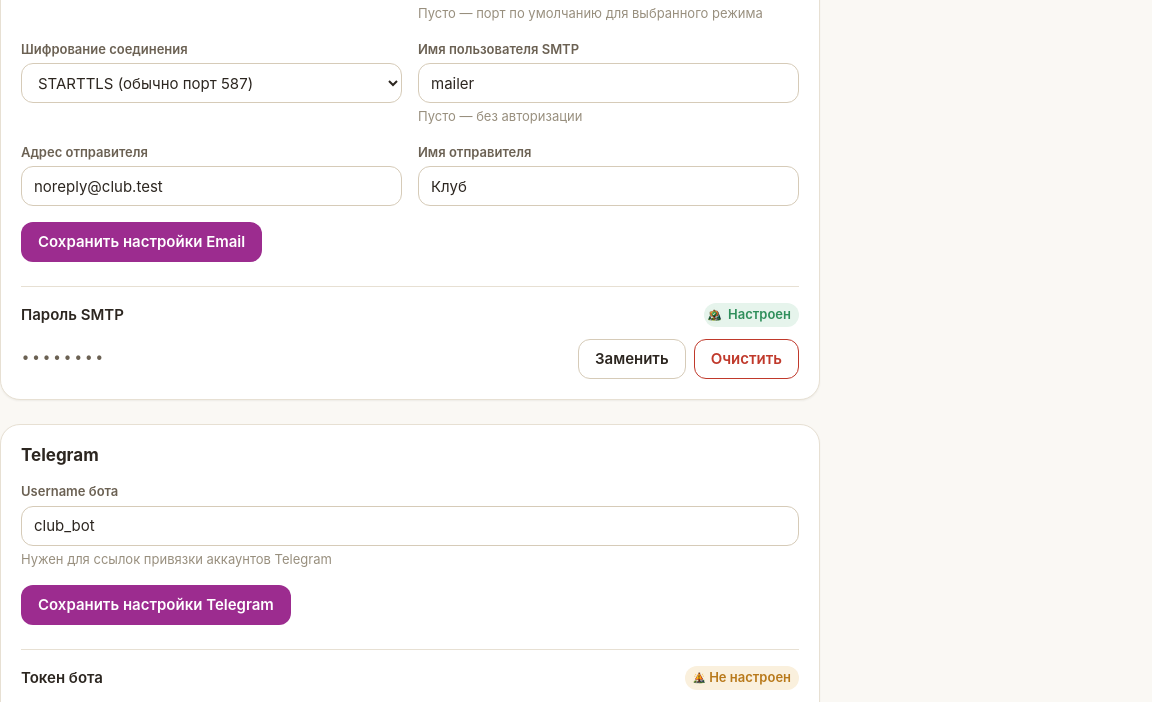
Test: Integrations and write-only secrets › cancelling a replacement sends nothing
This screenshot has width=1152, height=702.
(page scrolled)
Click the button "Заменить" at (632, 359), box [578, 339, 686, 379]
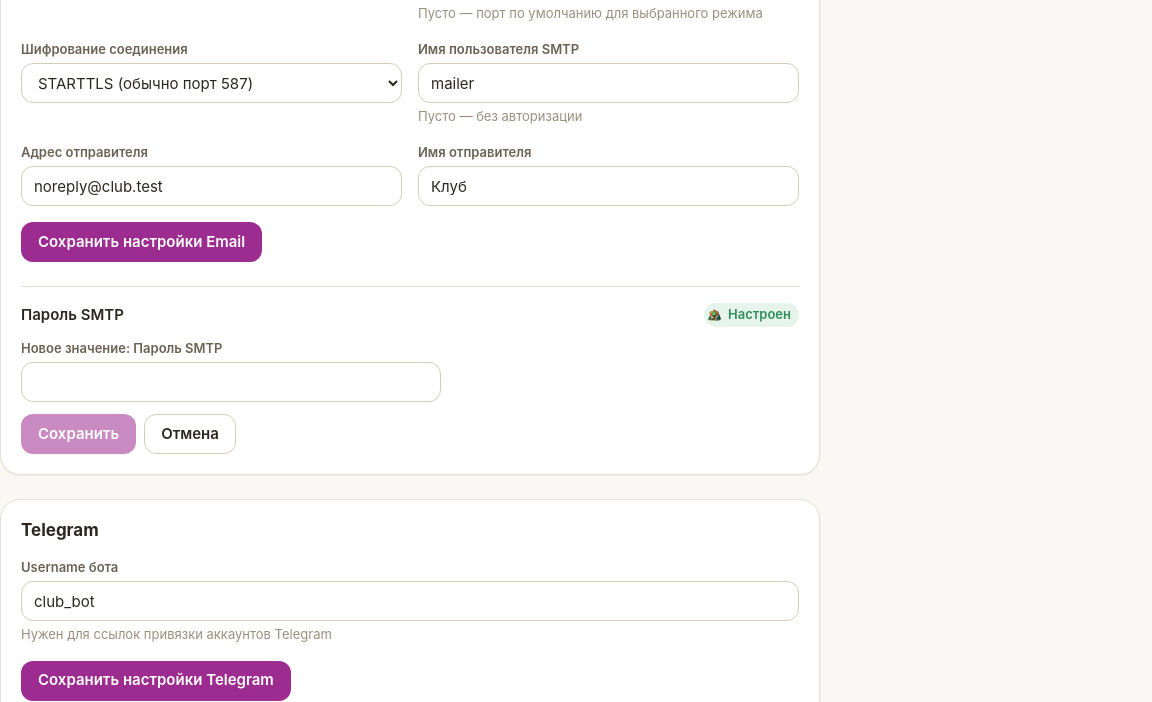
Type "Sm7p-Pa55w0rd-UNIQUE" into the password field labelled "Новое значение: Пароль SMTP" at (231, 382), box [21, 362, 441, 402]
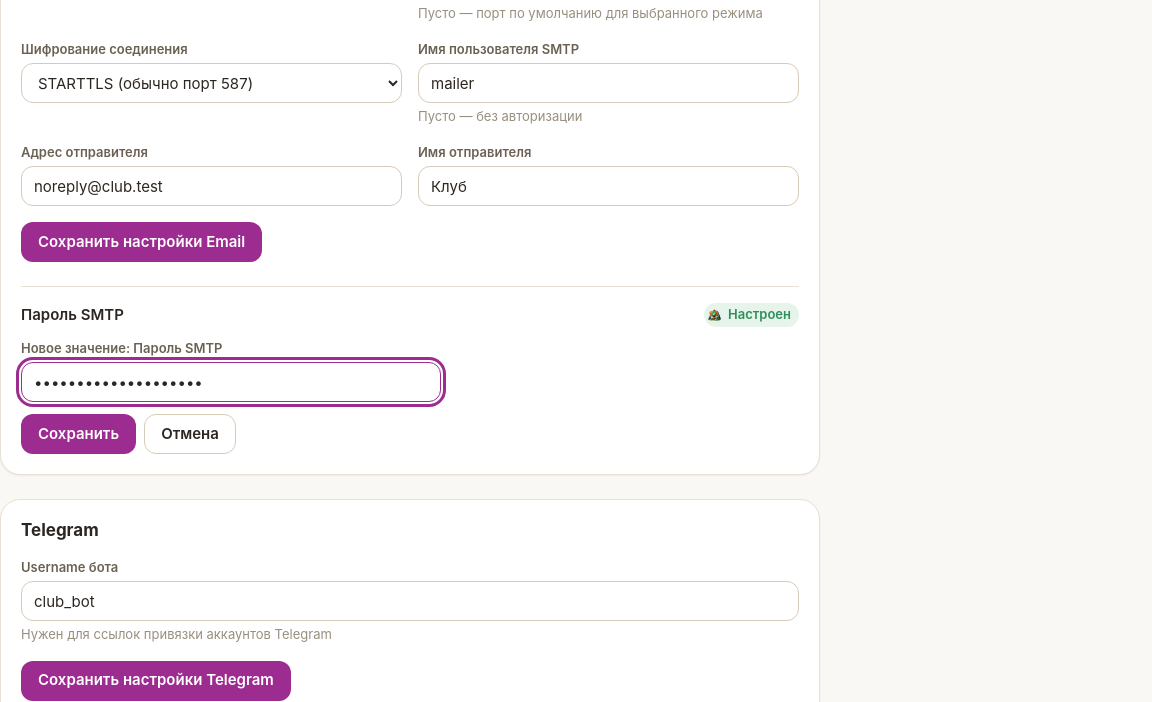
Click the button "Отмена" at (190, 434), box [144, 414, 236, 454]
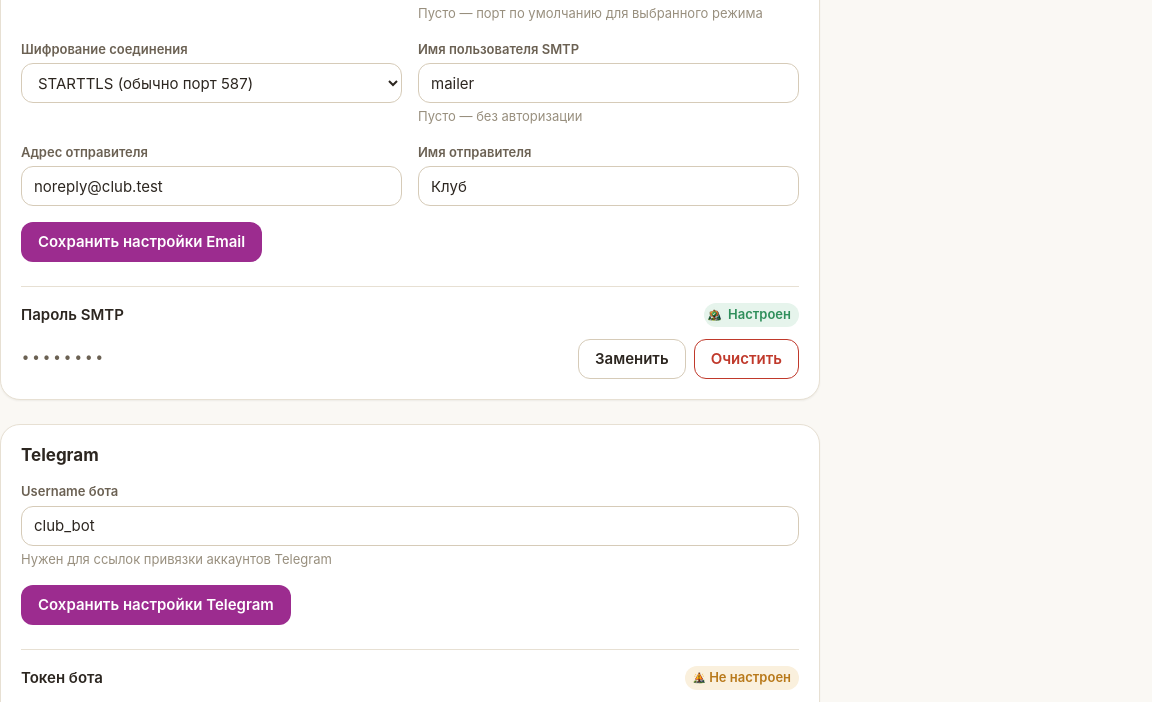
Result: the text "••••••••" is shown at [21, 348, 105, 370]
